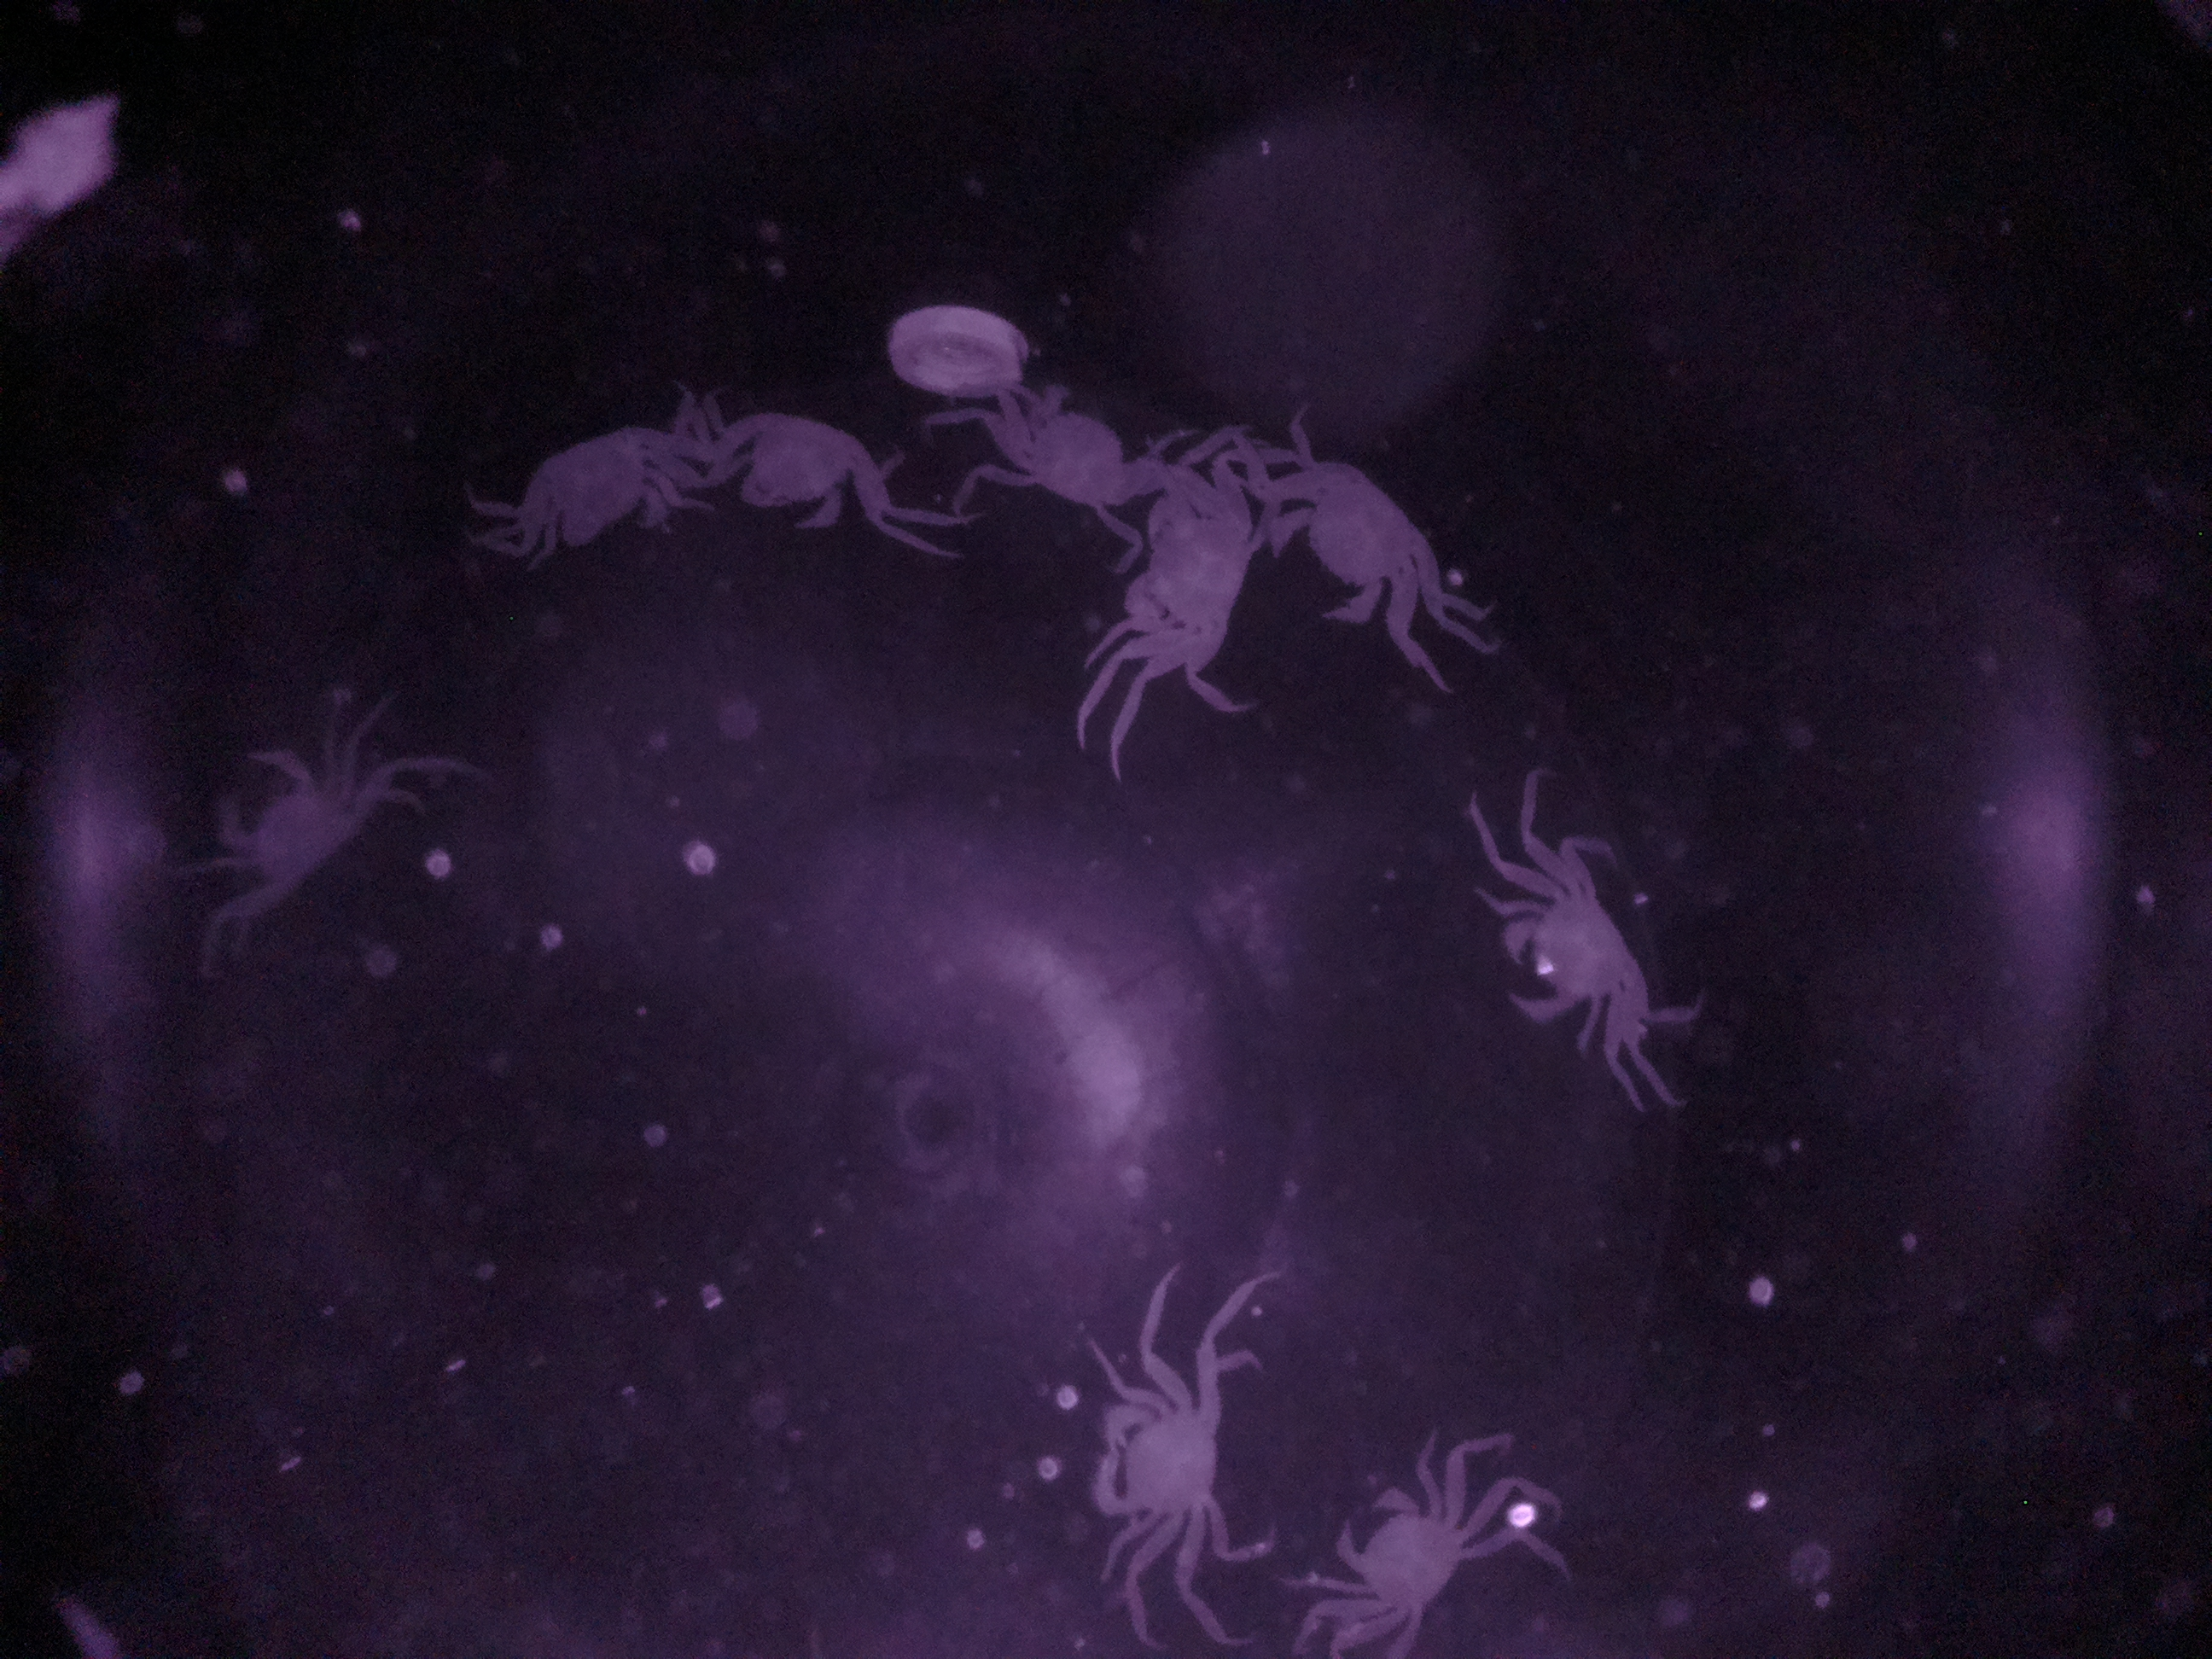Crab: (1468, 852, 1665, 1065), (1254, 430, 1451, 636), (1062, 1361, 1245, 1556), (206, 721, 380, 922), (1318, 1462, 1489, 1629)
